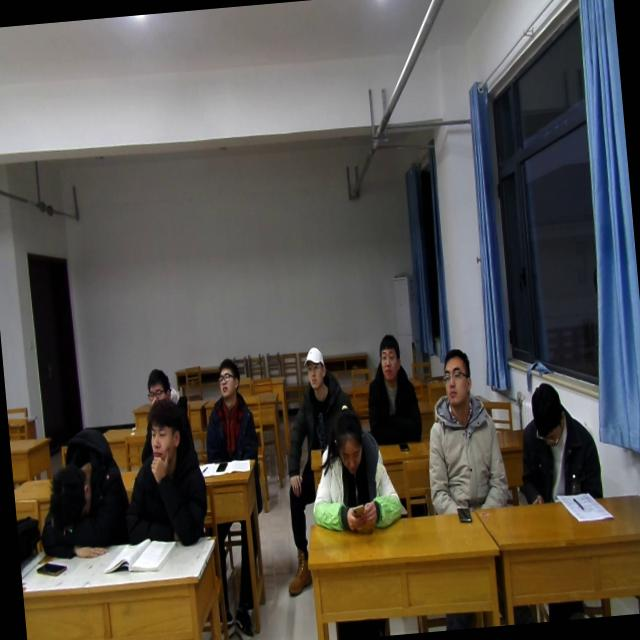bow: (29, 423, 133, 563)
down: (522, 374, 570, 454), (327, 401, 368, 478)
lookup: (139, 393, 185, 471), (436, 343, 476, 411), (372, 328, 404, 390), (208, 354, 242, 404), (298, 341, 328, 396), (140, 361, 169, 411)
sit: (416, 343, 514, 520), (110, 396, 212, 552), (303, 394, 404, 536), (510, 374, 606, 512), (356, 329, 428, 448), (280, 338, 354, 452), (194, 352, 260, 464), (132, 362, 200, 470)
